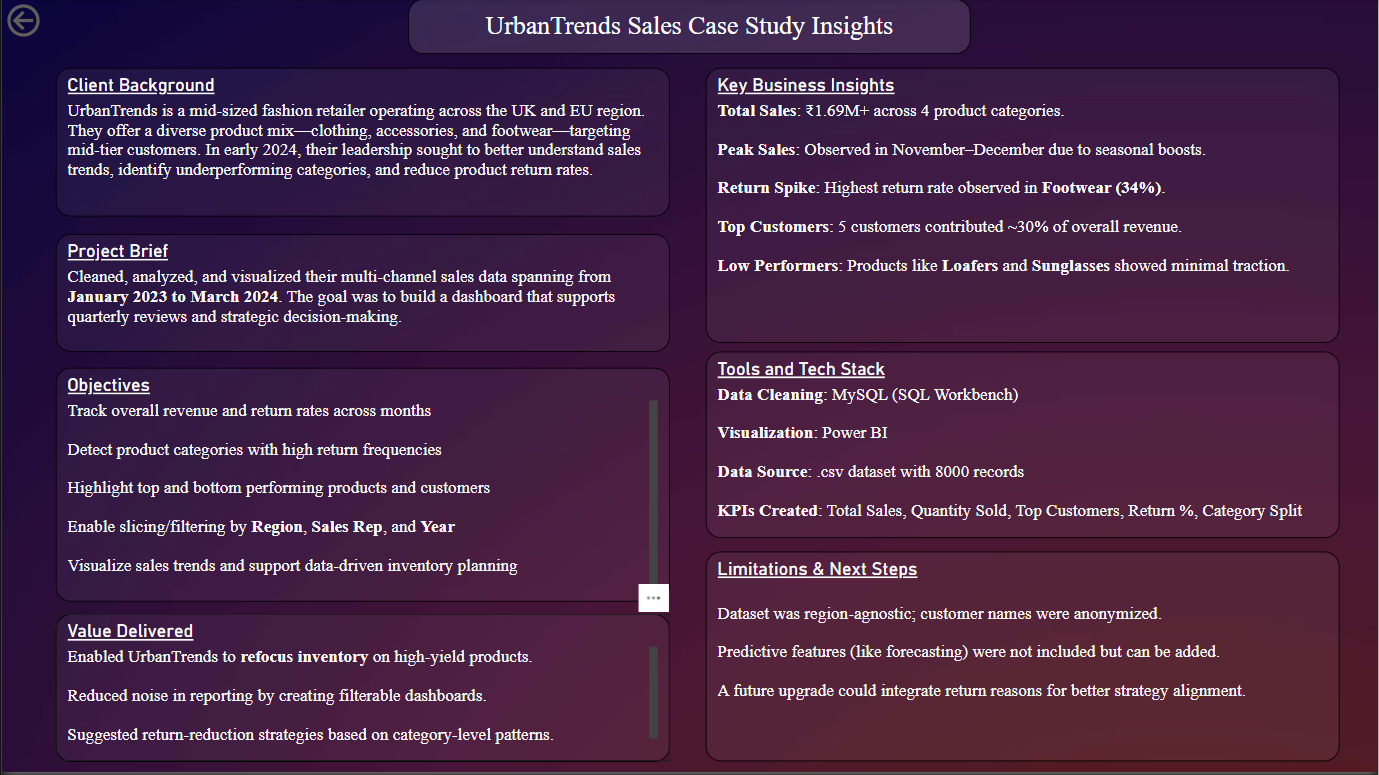

This screenshot's page, from the dashboard's own definition file:
{"tool":"powerbi","page":{"name":"Case_Study","canvas":[1280,720],"ordinal":1},"visuals":[{"type":"textbox","box":[377.9,0,523.3,51.2],"z":1000},{"type":"actionButton","box":[0,0,100,40],"z":13000},{"type":"textbox","title":"Client Background","box":[50,64,570.9,138.4],"z":13001},{"type":"textbox","title":"Project Brief","box":[50,218.6,570.9,109.3],"z":13002},{"type":"textbox","title":"Objectives","box":[50,343,570.9,217.4],"z":13003},{"type":"textbox","title":"Tools and Tech Stack","box":[654.7,327.9,589.5,173.3],"z":13004},{"type":"textbox","title":"Value Delivered","box":[50,572.1,570.9,137.2],"z":13005},{"type":"textbox","title":"Key Business Insights","box":[654.7,64,589.5,255.8],"z":13006},{"type":"textbox","title":"Limitations & Next Steps","box":[654.7,514,589.5,195.3],"z":13007}]}

Visuals, with their boxes in screenshot pixels (x1, y1, x2, y2), scaled from the page's 1280x720 canvas onto the 1379x775 screenshot:
textbox: box=[407, 0, 971, 55]
actionButton: box=[0, 0, 108, 43]
"Client Background" textbox: box=[54, 69, 669, 218]
"Project Brief" textbox: box=[54, 235, 669, 353]
"Objectives" textbox: box=[54, 369, 669, 603]
"Tools and Tech Stack" textbox: box=[705, 353, 1340, 539]
"Value Delivered" textbox: box=[54, 616, 669, 763]
"Key Business Insights" textbox: box=[705, 69, 1340, 344]
"Limitations & Next Steps" textbox: box=[705, 553, 1340, 763]
